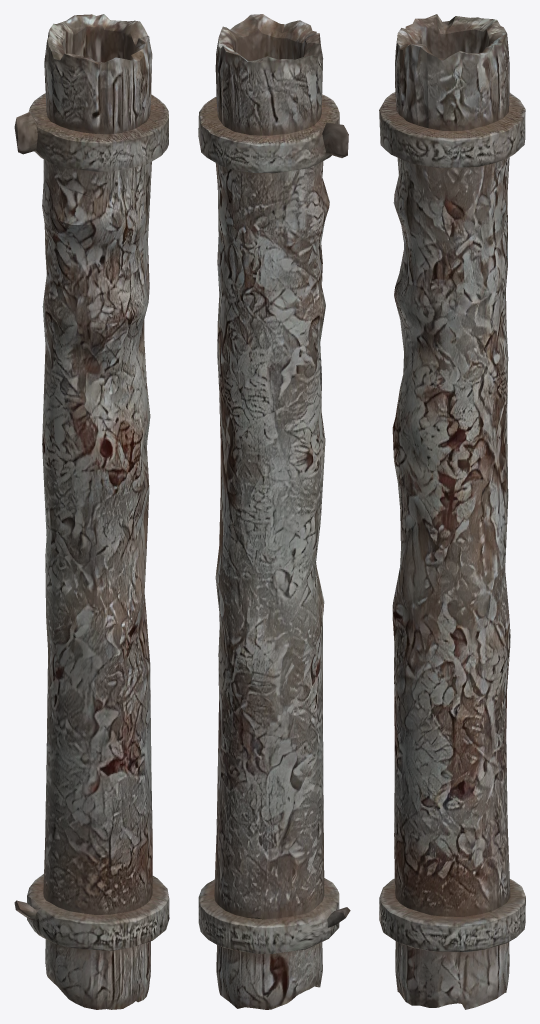
File: maul.glb
3 views of the same model, side by side, from view 1: azimuth 30°, elevation 25°; view 2: azimuth 150°, elevation 25°; view 3: azimuth 270°, elevation 25° (orthographic).
Parts seen in each view (by area): view 1: model; view 2: model; view 3: model.
Part boxes in pixels (x1=…): model: x1=14, y1=14, x2=169, y2=1009; model: x1=198, y1=14, x2=350, y2=1009; model: x1=379, y1=14, x2=525, y2=1009.
Bounding box in the file's own units: 0.1708 × 1.1 × 0.1521.
1 material, 1 textured.
